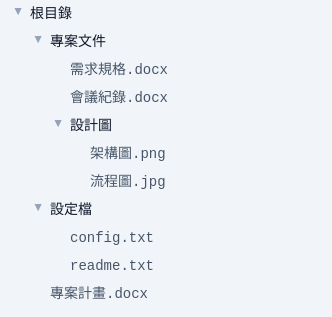
Test case: FileTreeView › 收合後再點擊可重新展開
Click the text "專案文件" at [78, 42], box [50, 34, 106, 50]
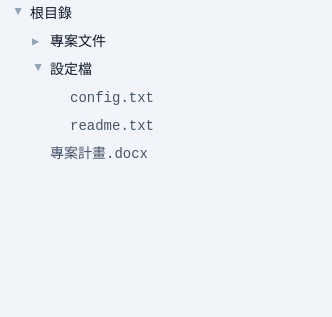
Expected: the text "需求規格.docx" is gone
Click the text "專案文件" at [78, 42], box [50, 34, 106, 50]
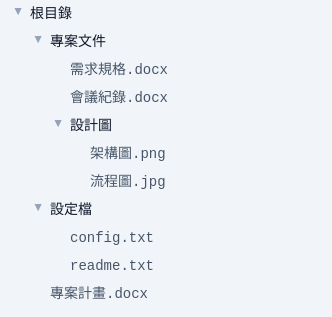
Expected: the text "需求規格.docx" is shown, [70, 60, 168, 80]
